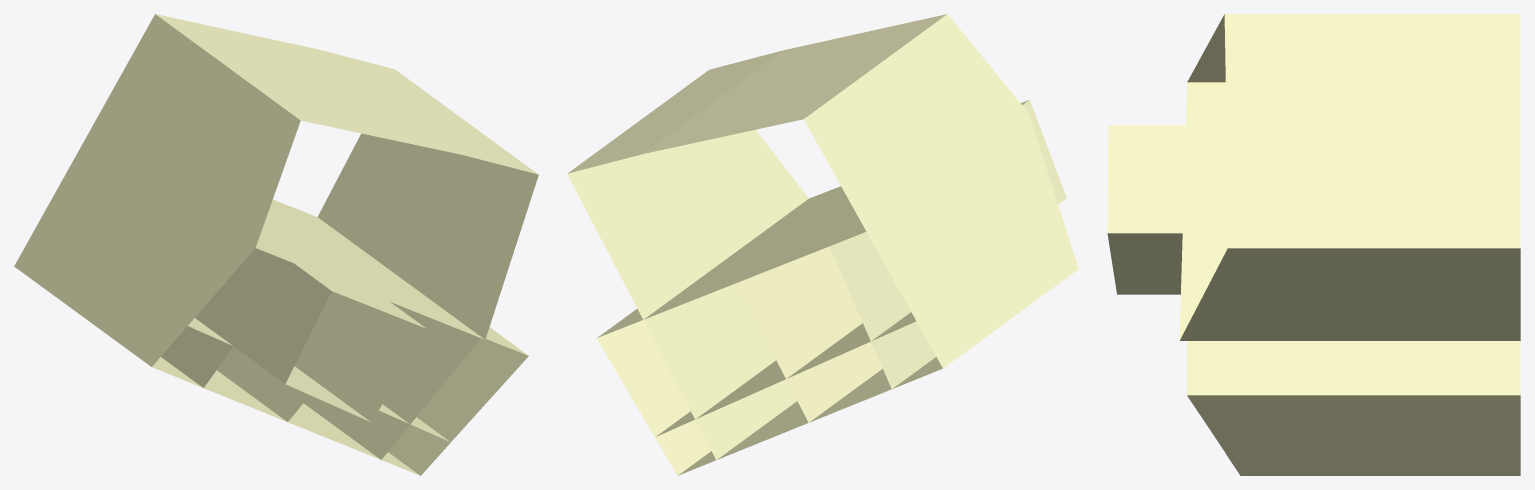
File: building_3003_wall.glb
3 views of the same model, side by side, from view 1: azimuth 30°, elevation 25°; view 2: azimuth 150°, elevation 25°; view 3: azimuth 270°, elevation 25° (orthographic). The views are drawn at different scales.
Size of the model in its own units: 23.07 by 22.72 by 21.34.
